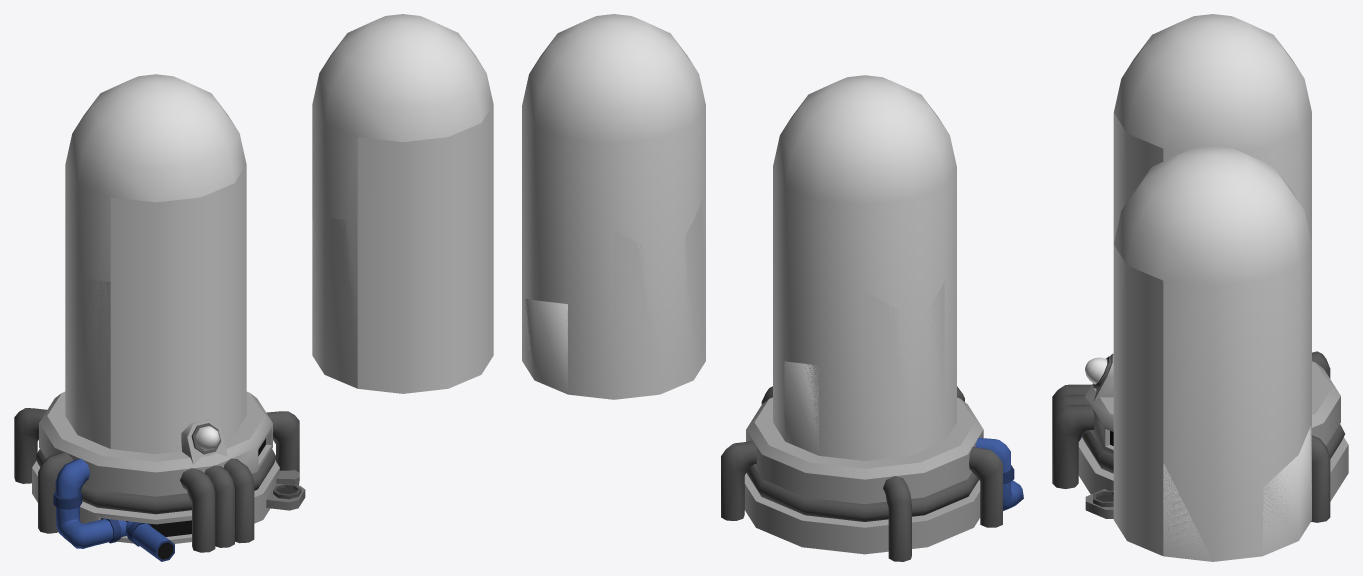
Rendered from Cryotube.fbx.
3 renders of one model, left to right at view 1: azimuth 30°, elevation 25°; view 2: azimuth 150°, elevation 25°; view 3: azimuth 270°, elevation 25°, orthographic. The views are drawn at different scales.
Parts seen in each view (by area): view 1: CryotubeDoorGreen, CryotubeDoorBlue, CryotubeBase, CryotubeGlassBlue, CryotubeGlassGreen, CryotubeGlassBrokenGreen, CryotubeGlassBrokenBlue; view 2: CryotubeGlassBlue, CryotubeGlassGreen, CryotubeBase, CryotubeGlassBrokenGreen, CryotubeGlassBrokenBlue; view 3: CryotubeGlassGreen, CryotubeGlassBlue, CryotubeDoorGreen, CryotubeBase, CryotubeGlassBrokenGreen, CryotubeDoorBlue.
Boxes of the visible parts, box(x1,y1,x2,y2) form: CryotubeDoorGreen: box(357, 104, 493, 393); CryotubeDoorBlue: box(110, 164, 246, 454); CryotubeBase: box(14, 391, 305, 561); CryotubeGlassBlue: box(65, 74, 246, 448); CryotubeGlassGreen: box(312, 14, 493, 387); CryotubeGlassBrokenGreen: box(312, 217, 357, 388); CryotubeGlassBrokenBlue: box(65, 278, 110, 448); CryotubeGlassBlue: box(773, 75, 956, 460); CryotubeGlassGreen: box(522, 14, 705, 399); CryotubeBase: box(721, 386, 1023, 561); CryotubeGlassBrokenGreen: box(522, 200, 705, 399); CryotubeGlassBrokenBlue: box(775, 282, 956, 460); CryotubeGlassGreen: box(1114, 146, 1311, 561); CryotubeGlassBlue: box(1114, 14, 1311, 242); CryotubeDoorGreen: box(1113, 245, 1163, 555); CryotubeBase: box(1052, 351, 1348, 522); CryotubeGlassBrokenGreen: box(1163, 426, 1311, 561); CryotubeDoorBlue: box(1113, 113, 1163, 243).
Size of the model in its own units: 3.65 by 3.19 by 1.9.
